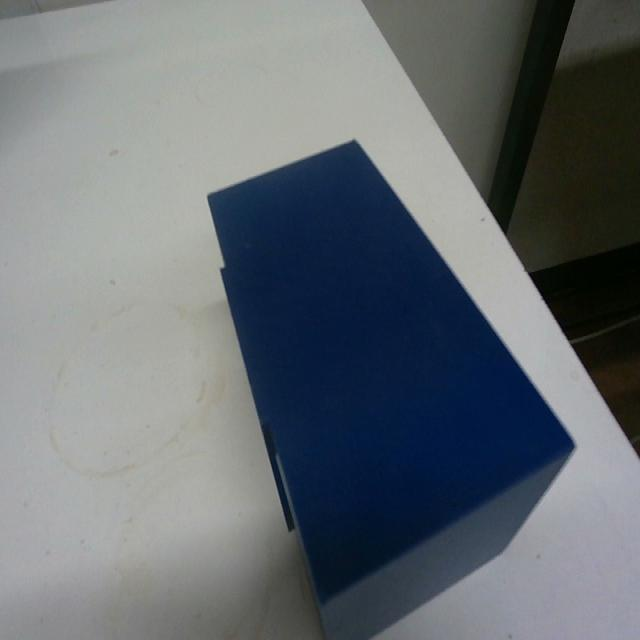Blue Cuboid: (204, 135, 576, 637)
